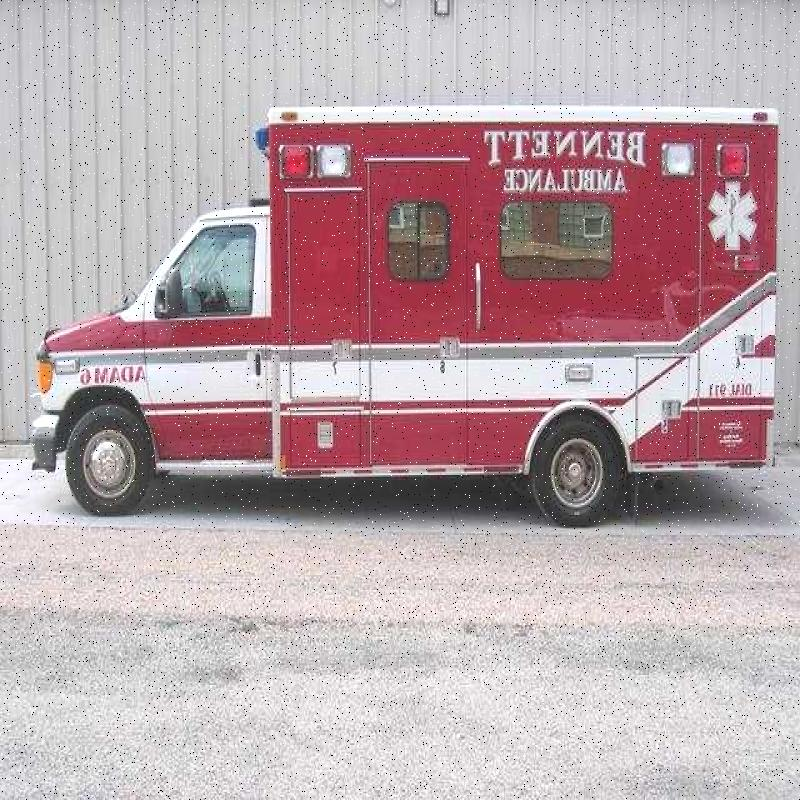AmbulanceSiren: (658, 137, 746, 181), (282, 144, 352, 186)
